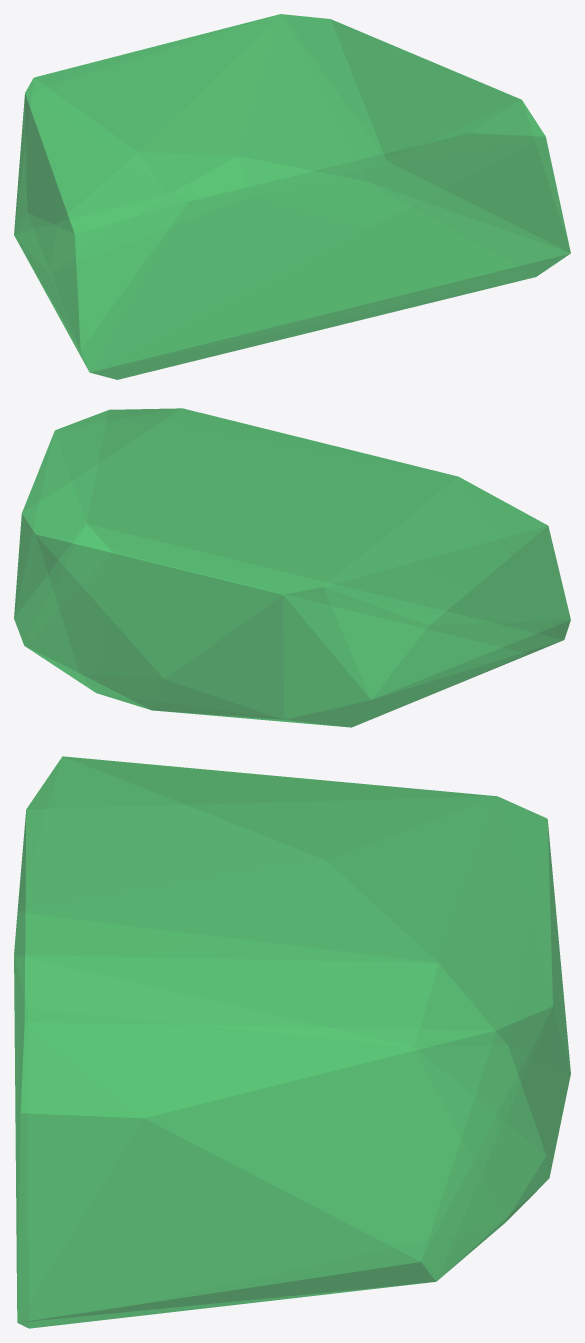
The picture shows the model from 3 angles, top to bottom: view 1: azimuth 30°, elevation 25°; view 2: azimuth 150°, elevation 25°; view 3: azimuth 270°, elevation 25°; orthographic projection. The views are drawn at different scales.
Visible parts, largest first — view 1: Shape_IndexedFaceSet.001_Shape_IndexedFaceSet.15105; view 2: Shape_IndexedFaceSet.001_Shape_IndexedFaceSet.15105; view 3: Shape_IndexedFaceSet.001_Shape_IndexedFaceSet.15105.
Part boxes in pixels (left/top/right/bottom): Shape_IndexedFaceSet.001_Shape_IndexedFaceSet.15105: left=14, top=14, right=570, bottom=379; Shape_IndexedFaceSet.001_Shape_IndexedFaceSet.15105: left=14, top=408, right=570, bottom=727; Shape_IndexedFaceSet.001_Shape_IndexedFaceSet.15105: left=14, top=756, right=570, bottom=1328.
Size of the model in its own units: 0.3403 by 0.1083 by 0.2136.
